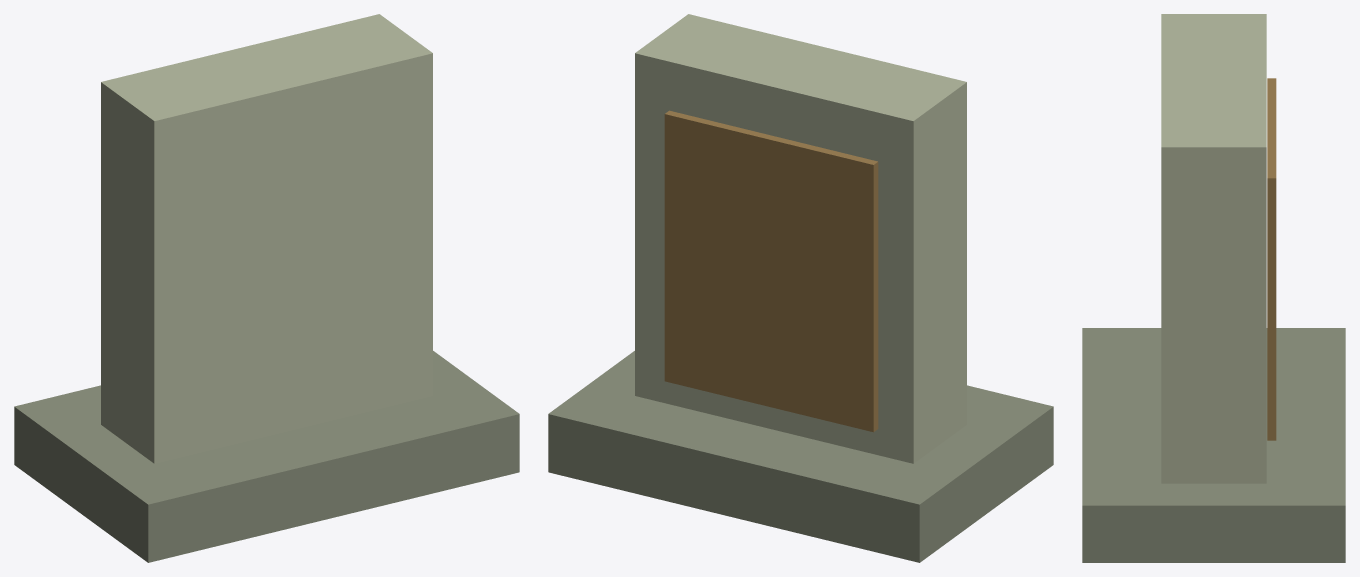
The model's file is memorial.glb.
The picture shows the model from 3 angles, left to right: view 1: azimuth 30°, elevation 25°; view 2: azimuth 150°, elevation 25°; view 3: azimuth 270°, elevation 25°; orthographic projection.
Visible parts, largest first — view 1: stone, plinth; view 2: stone, plaque, plinth; view 3: stone, plinth, plaque.
Part boxes in pixels (x1,y1,x2,y2): stone: (101, 14, 432, 463); plinth: (14, 351, 519, 562); stone: (635, 14, 966, 463); plaque: (664, 110, 878, 432); plinth: (548, 351, 1053, 562); stone: (1161, 14, 1266, 483); plinth: (1082, 328, 1345, 562); plaque: (1267, 78, 1276, 440).
Bounding box in the file's own units: 1.6 × 1.65 × 1.
